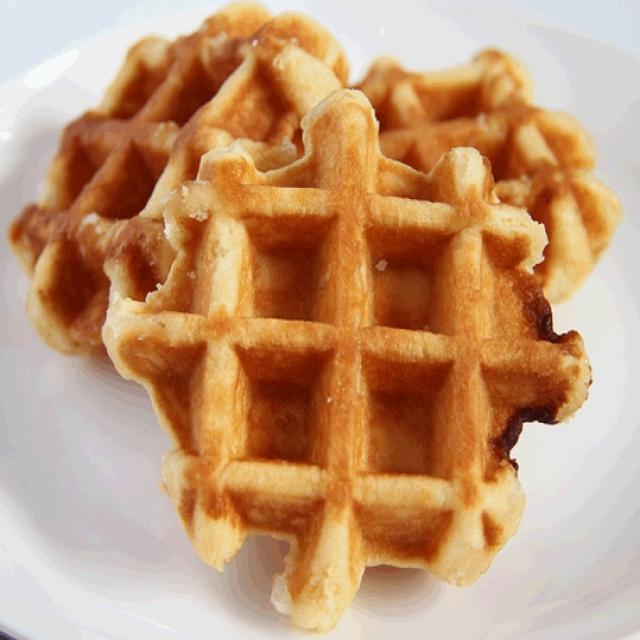面条主食: (2, 37, 620, 556)
